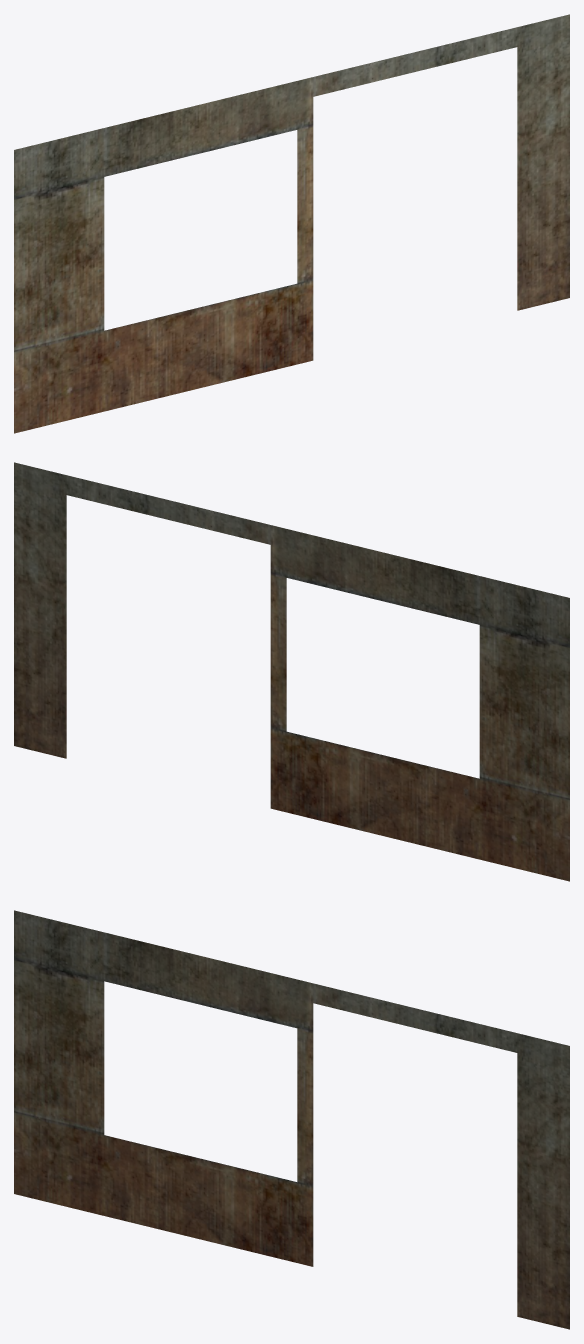
Rendered from MetalWall_Lower.FBX.
3 renders of one model, top to bottom at view 1: azimuth 30°, elevation 25°; view 2: azimuth 150°, elevation 25°; view 3: azimuth 330°, elevation 25°, orthographic.
Parts seen in each view (by area): view 1: MetalWall_Lower; view 2: MetalWall_Lower; view 3: MetalWall_Lower.
Boxes of the visible parts, x1,y1,x2,y2 form: MetalWall_Lower: (14,14,569,433); MetalWall_Lower: (14,462,569,881); MetalWall_Lower: (14,910,569,1329).
Size of the model in its own units: 764 by 372 by 2.28e-14.
